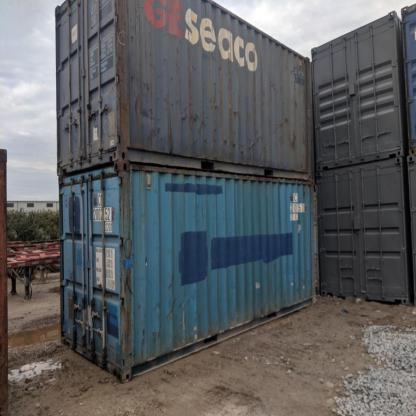Damage: (113, 169, 138, 368), (192, 317, 254, 337), (138, 320, 164, 356), (250, 258, 274, 294), (293, 265, 325, 289), (165, 298, 182, 331), (164, 273, 179, 290)
